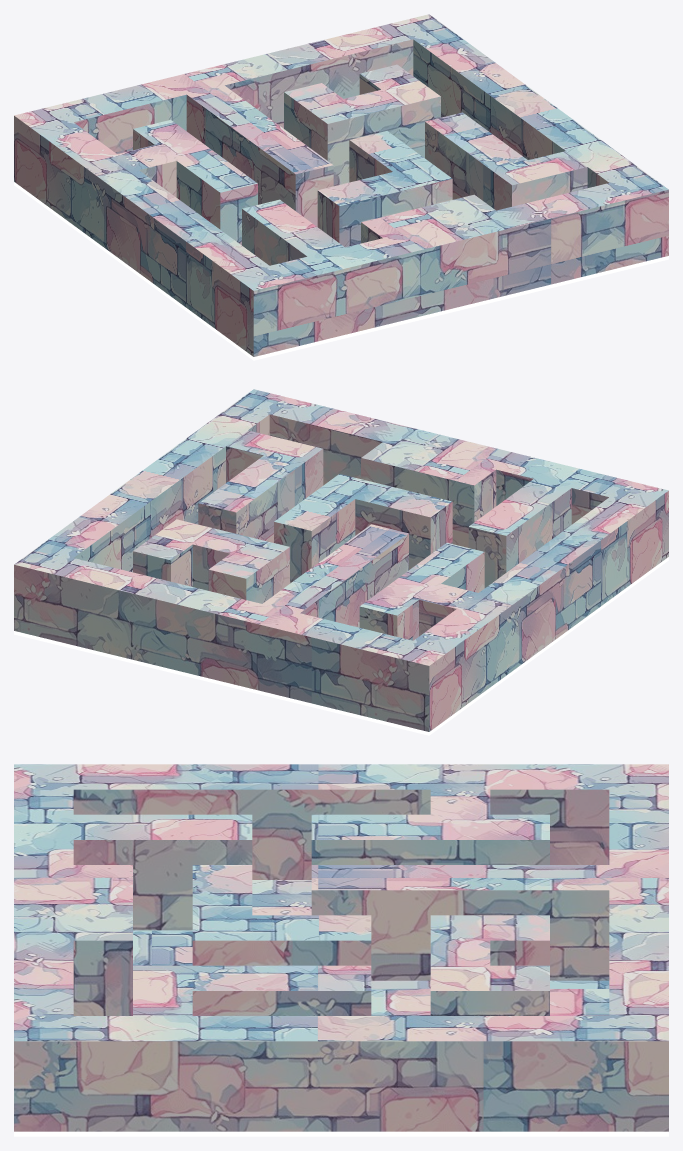
File: floor3.glb
The picture shows the model from 3 angles, top to bottom: view 1: azimuth 30°, elevation 25°; view 2: azimuth 150°, elevation 25°; view 3: azimuth 270°, elevation 25°; orthographic projection. The views are drawn at different scales.
Visible parts, largest first — view 1: Floor3; view 2: Floor3; view 3: Floor3.
Part boxes in pixels (left/top/right/bottom): Floor3: left=14, top=14, right=668, bottom=360; Floor3: left=14, top=389, right=668, bottom=735; Floor3: left=14, top=764, right=668, bottom=1136.
Size of what is drawn, in the model's own units: 32 by 5.14 by 32.
4 materials, 1 textured.
